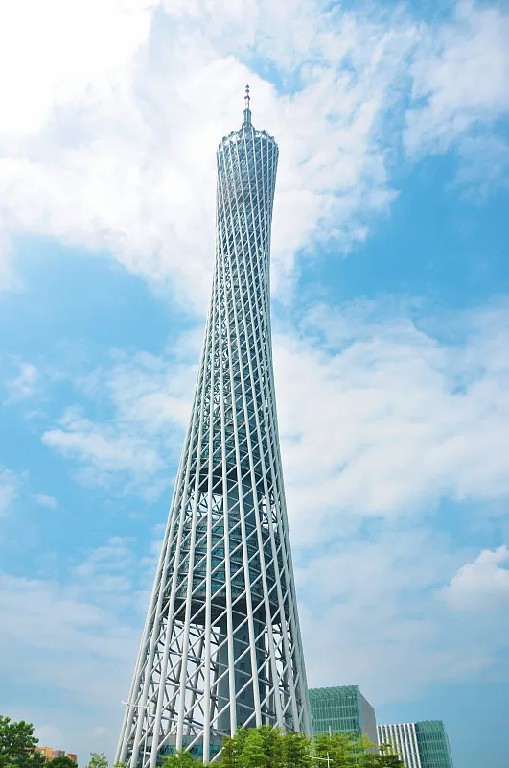Canton: (114, 79, 319, 765)
